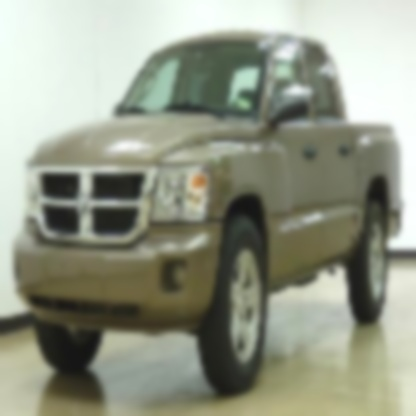Vehicle: (12, 30, 405, 395)
